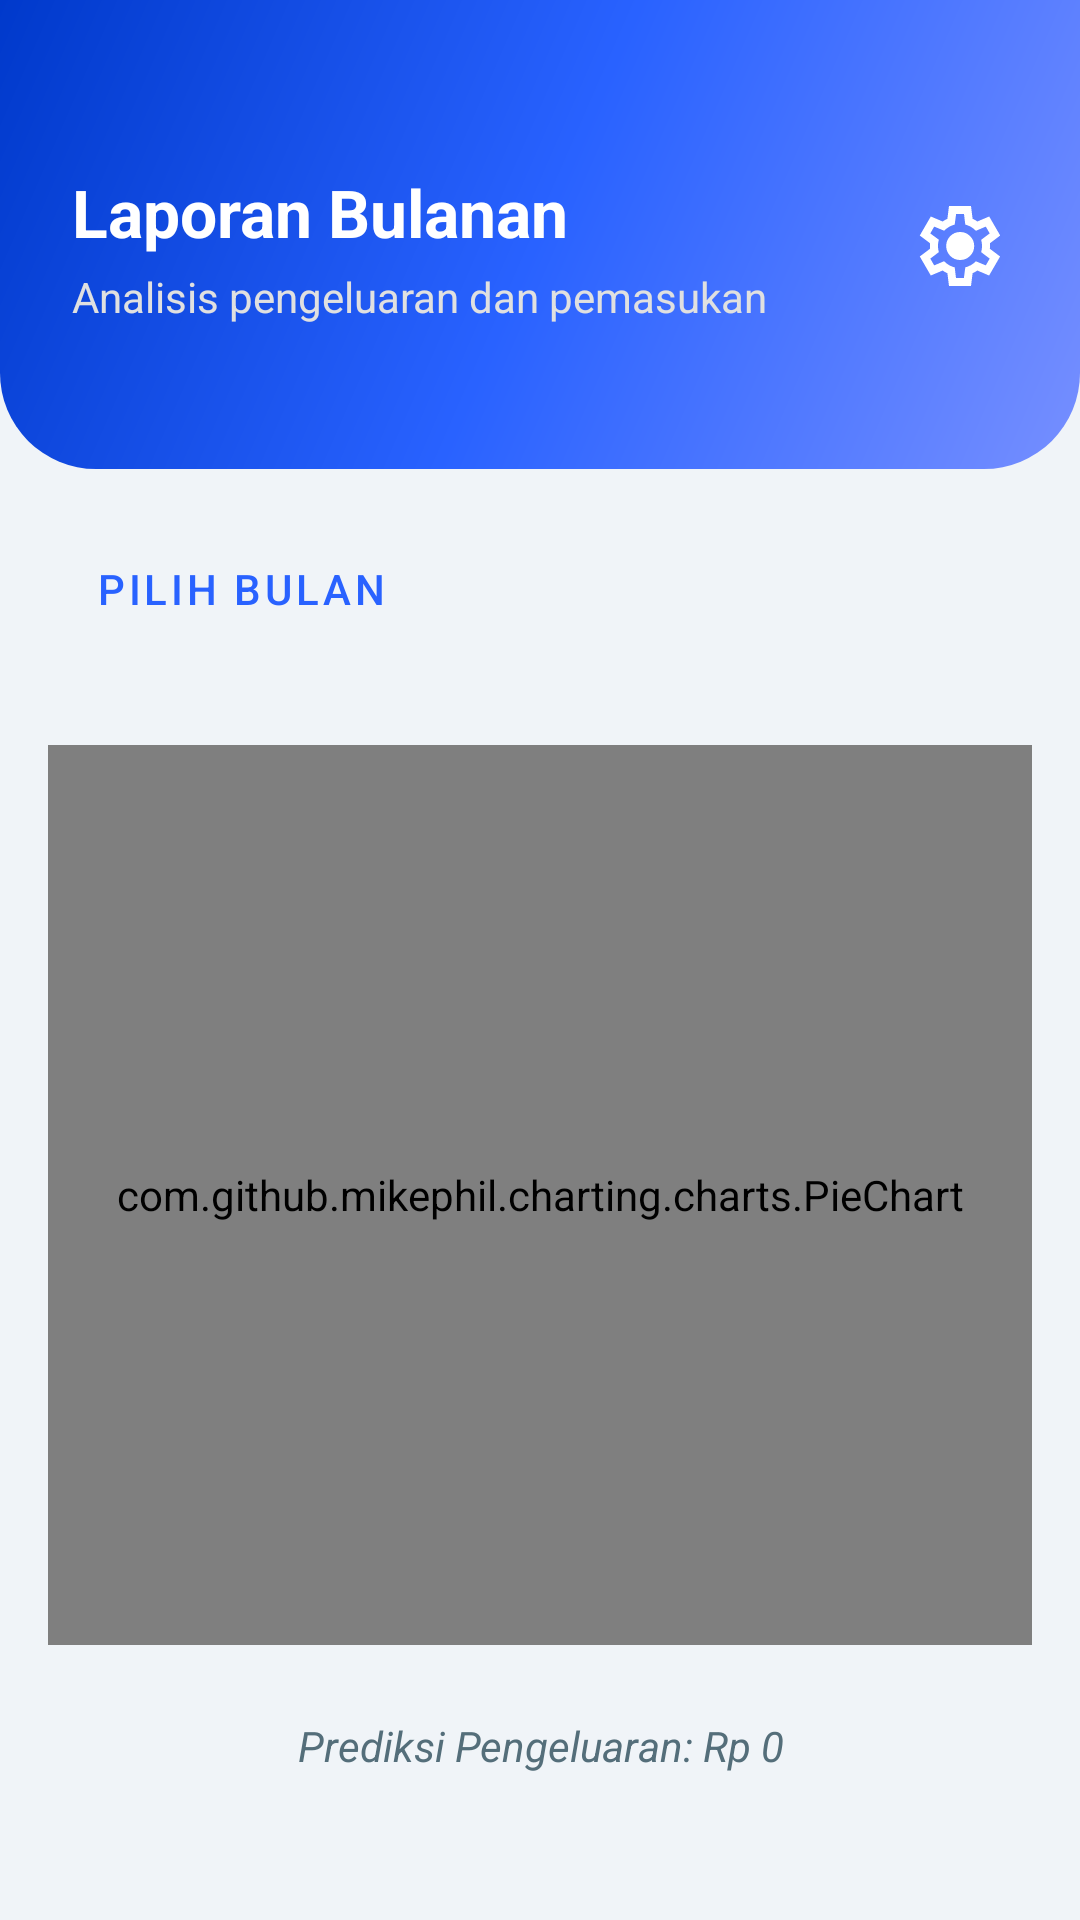

Screen size 1080px×1920px. Icon name, then its center in pixels as (x,y):
Pengaturan: (960,246)
